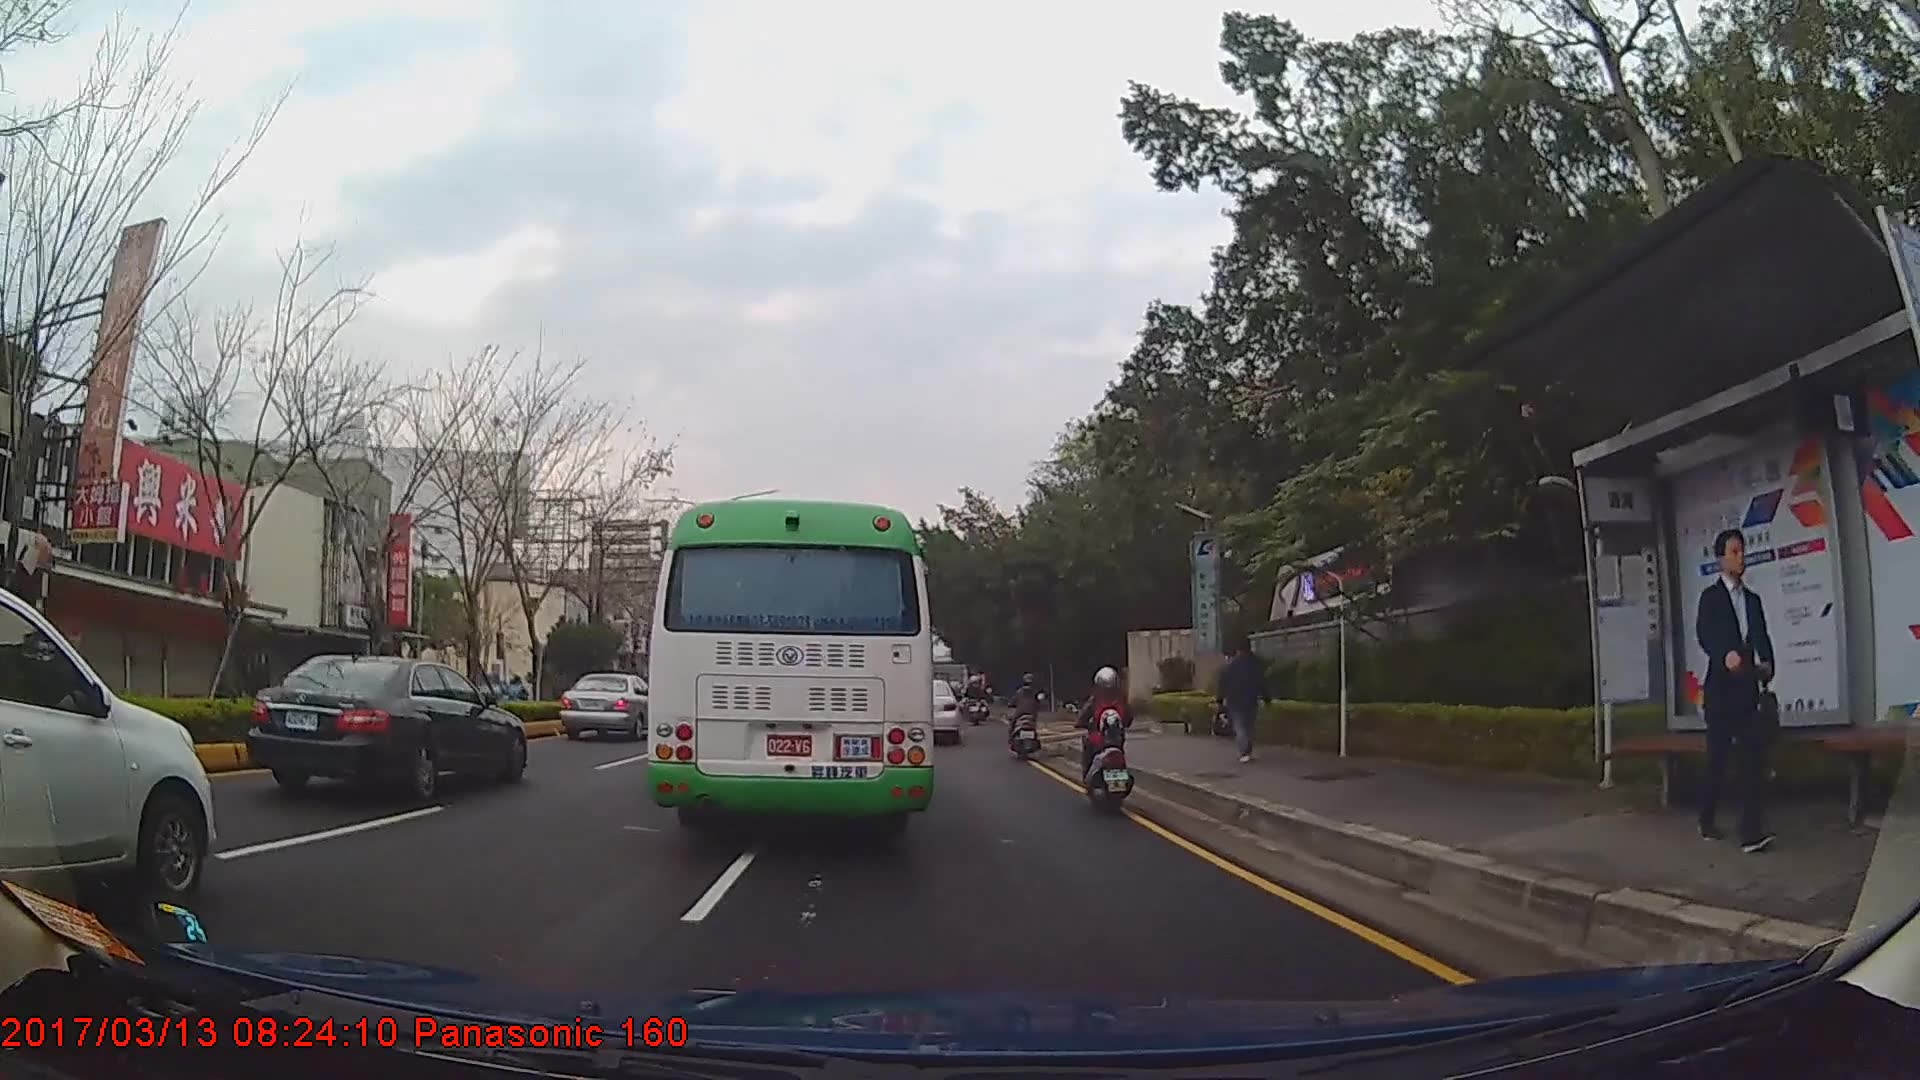pedestrian: (1692, 528, 1786, 852), (1216, 636, 1277, 769)
rider: (1079, 666, 1136, 812), (1009, 668, 1048, 759), (966, 676, 986, 715)
vehicle: (646, 502, 934, 845), (0, 583, 217, 906), (245, 651, 528, 803), (560, 670, 655, 743), (897, 679, 960, 745)
